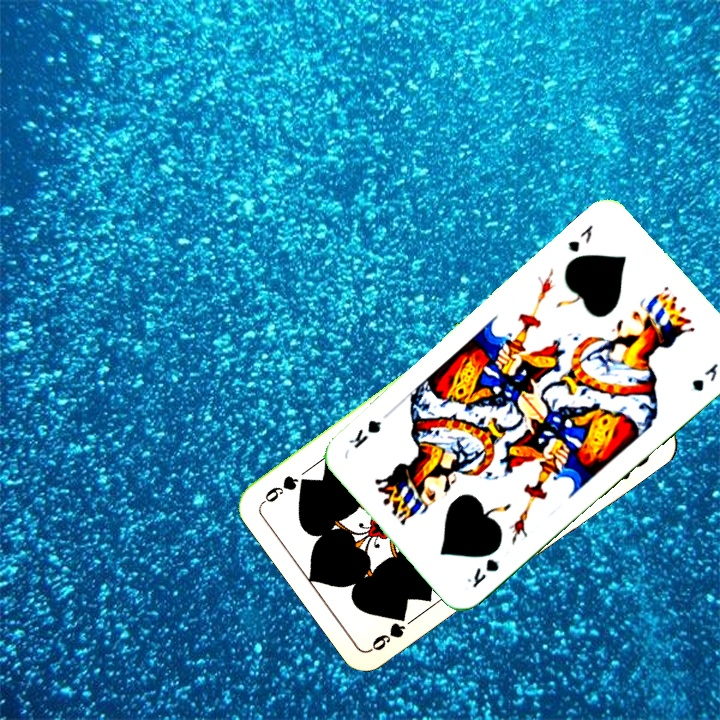G9: (367, 610, 409, 654)
GK: (463, 554, 502, 591), (563, 220, 596, 255)
